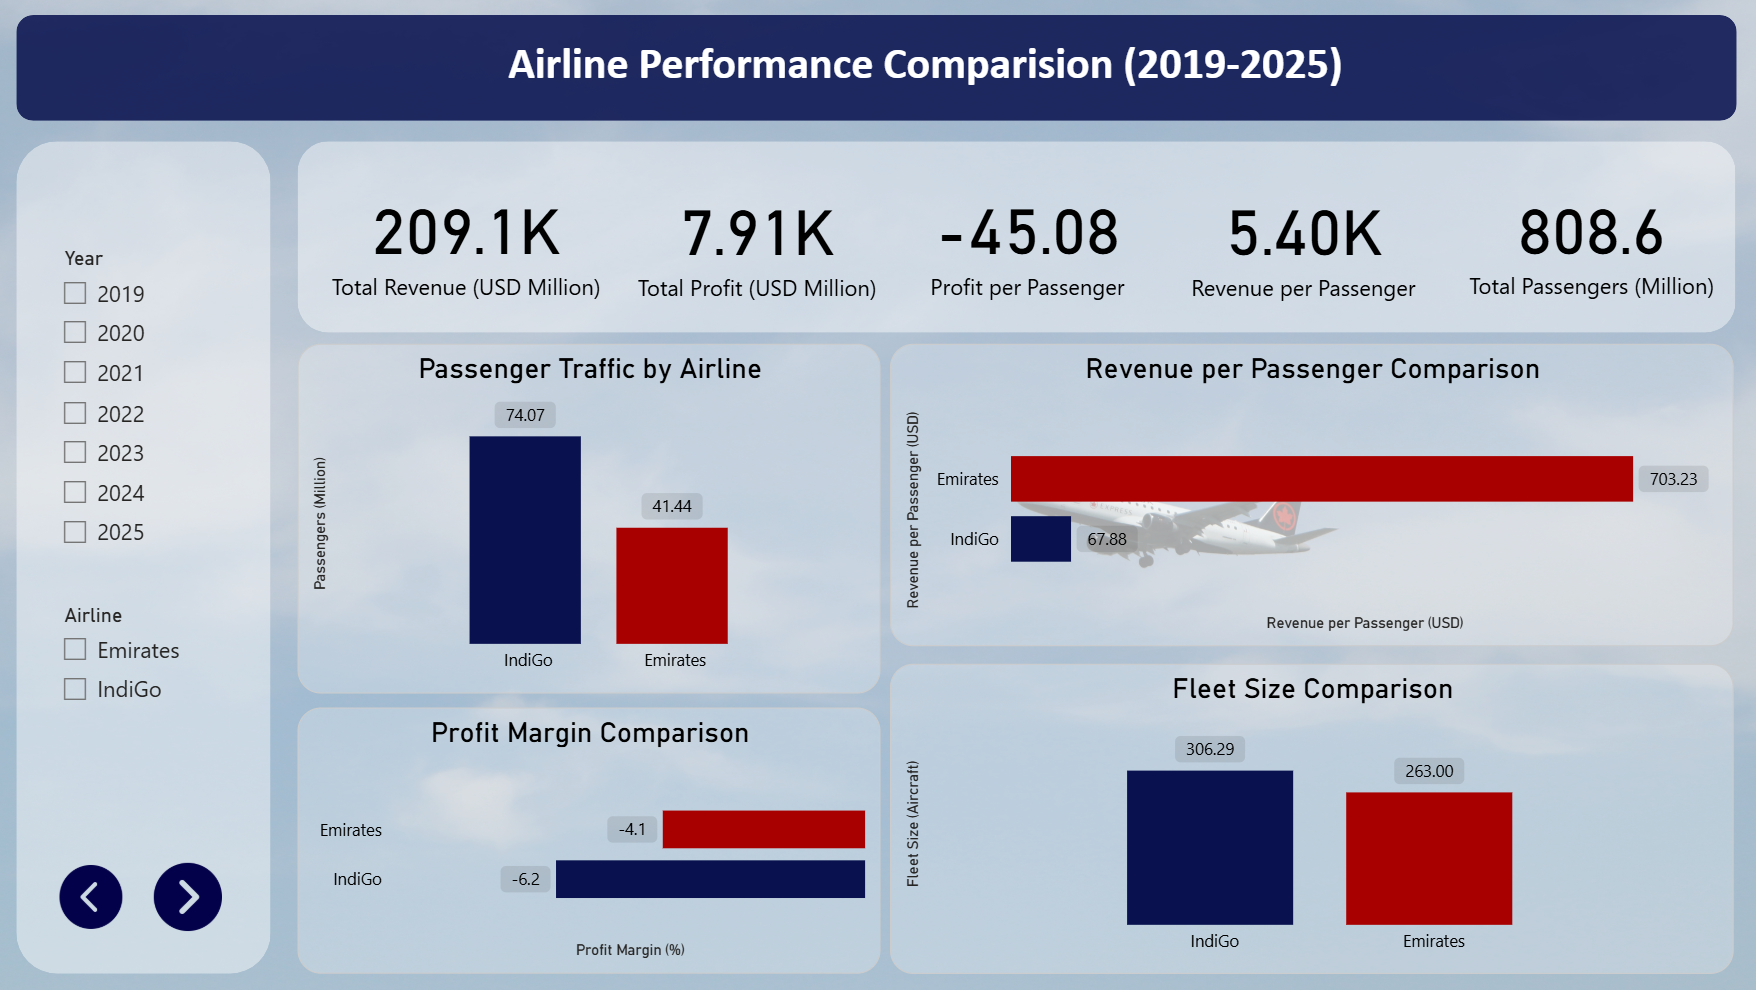

The page's visual inventory and layout, read from the dashboard file:
{"tool":"powerbi","page":{"name":"Airline Comparison","canvas":[1280,720],"ordinal":1},"visuals":[{"type":"shape","box":[12.2,10.8,1251.4,77],"z":0},{"type":"shape","box":[216.2,102.7,1045.9,139.2],"z":1000},{"type":"shape","box":[12.2,102.7,185.1,605.4],"z":2000},{"type":"clusteredColumnChart","title":"Passenger Traffic by Airline","fields":{"Category":["Airline_Performance.Airline"],"Y":["Avg(Airline_Performance.Passengers_Million)"]},"box":[216.2,250,424.3,254.1],"z":3000},{"type":"clusteredBarChart","title":"Revenue per Passenger Comparison","fields":{"Category":["Airline_Performance.Airline"],"Y":["Avg(Airline_Performance.Revenue_per_Passenger_USD)"]},"box":[647.3,250,613.5,220.3],"z":4000},{"type":"slicer","fields":{"Values":["Airline_Performance.Year"]},"box":[33.8,174.3,117.6,243.2],"z":5000},{"type":"card","fields":{"Values":["Sum(Airline_Performance.Revenue_USD_Million)"]},"box":[218.4,96,241.9,156.8],"z":6000},{"type":"card","fields":{"Values":["Sum(Airline_Performance.Profit_USD_Million)"]},"box":[413.5,100,274.3,150],"z":7000},{"type":"card","fields":{"Values":["Sum(Airline_Performance.Revenue_per_Passenger_USD)"]},"box":[810.8,100,274.3,150],"z":8000},{"type":"card","fields":{"Values":["Avg(Airline_Performance.Profit_per_Passenger_USD)"]},"box":[600.4,100.8,294.6,147.3],"z":9000},{"type":"slicer","fields":{"Values":["Airline_Performance.Airline"]},"box":[33.8,433.8,117.6,95.9],"z":10000},{"type":"textbox","box":[364.9,21.6,644.6,78.4],"z":11000},{"type":"image","box":[34.9,623,63,59],"z":12000},{"type":"image","box":[105.4,623,62.2,59.5],"z":13000},{"type":"card","fields":{"Values":["Sum(Airline_Performance.Passengers_Million)"]},"box":[1035.1,99.4,244.6,150],"z":14000},{"type":"barChart","title":"Profit Margin Comparison","fields":{"Category":["Airline_Performance.Airline"],"Y":["Avg(Airline_Performance.Profit_Margin_Percent)"]},"box":[216.2,514.9,424.3,193.2],"z":14001},{"type":"columnChart","title":"Fleet Size Comparison","fields":{"Category":["Airline_Performance.Airline"],"Y":["Avg(Airline_Performance.Fleet_Size)"]},"box":[647.3,482.4,613.5,225.7],"z":14002}]}

Visuals, with their boxes in screenshot pixels (x1, y1, x2, y2), scaled from the page's 1280x720 canvas onto the 1756x990 screenshot:
shape: pyautogui.locateOnScreen(17, 15, 1734, 121)
shape: pyautogui.locateOnScreen(297, 141, 1731, 333)
shape: pyautogui.locateOnScreen(17, 141, 271, 974)
"Passenger Traffic by Airline" clusteredColumnChart: pyautogui.locateOnScreen(297, 344, 879, 693)
"Revenue per Passenger Comparison" clusteredBarChart: pyautogui.locateOnScreen(888, 344, 1730, 647)
slicer - Airline_Performance.Year: pyautogui.locateOnScreen(46, 240, 208, 574)
card - Sum(Airline_Performance.Revenue_USD_Million): pyautogui.locateOnScreen(300, 132, 631, 348)
card - Sum(Airline_Performance.Profit_USD_Million): pyautogui.locateOnScreen(567, 138, 944, 344)
card - Sum(Airline_Performance.Revenue_per_Passenger_USD): pyautogui.locateOnScreen(1112, 138, 1489, 344)
card - Avg(Airline_Performance.Profit_per_Passenger_USD): pyautogui.locateOnScreen(824, 139, 1228, 341)
slicer - Airline_Performance.Airline: pyautogui.locateOnScreen(46, 596, 208, 728)
textbox: pyautogui.locateOnScreen(501, 30, 1385, 138)
image: pyautogui.locateOnScreen(48, 857, 134, 938)
image: pyautogui.locateOnScreen(145, 857, 230, 938)
card - Sum(Airline_Performance.Passengers_Million): pyautogui.locateOnScreen(1420, 137, 1755, 343)
"Profit Margin Comparison" barChart: pyautogui.locateOnScreen(297, 708, 879, 974)
"Fleet Size Comparison" columnChart: pyautogui.locateOnScreen(888, 663, 1730, 974)
